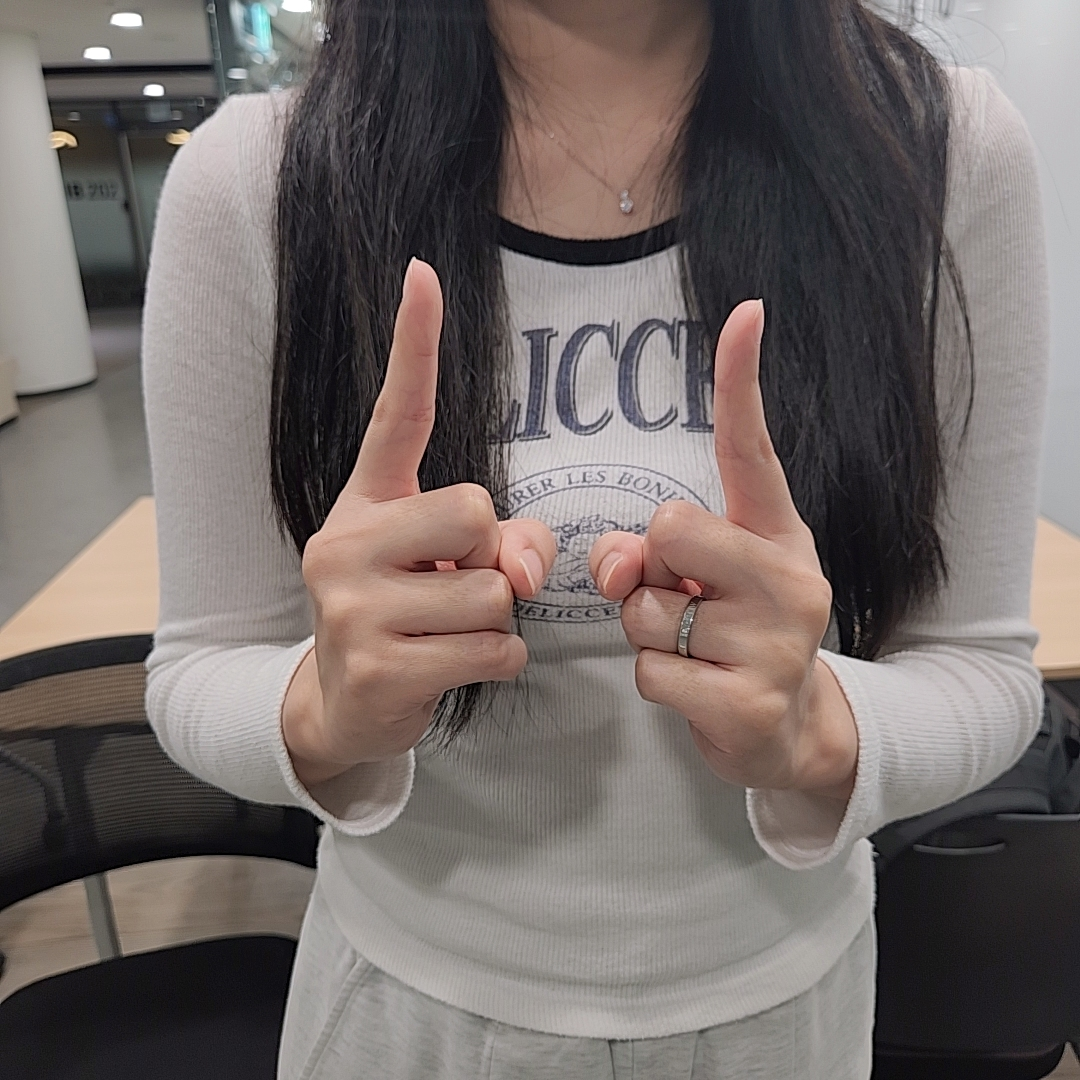meet: (301, 254, 834, 790)
